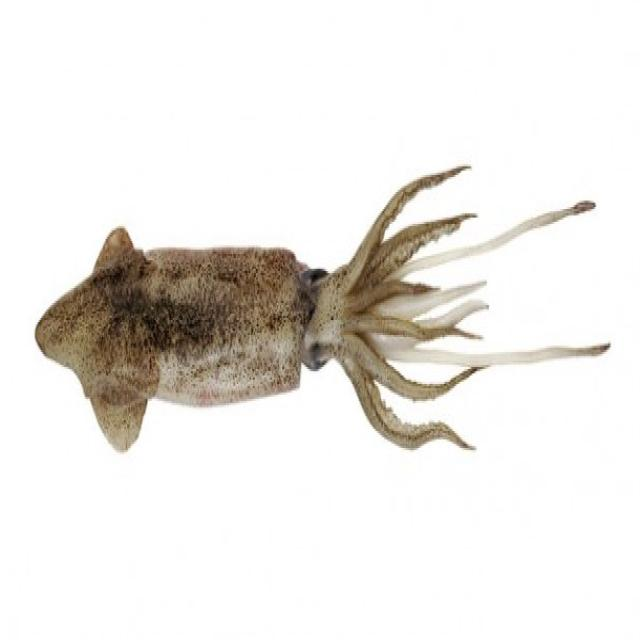SQUID: (0, 134, 624, 486)
